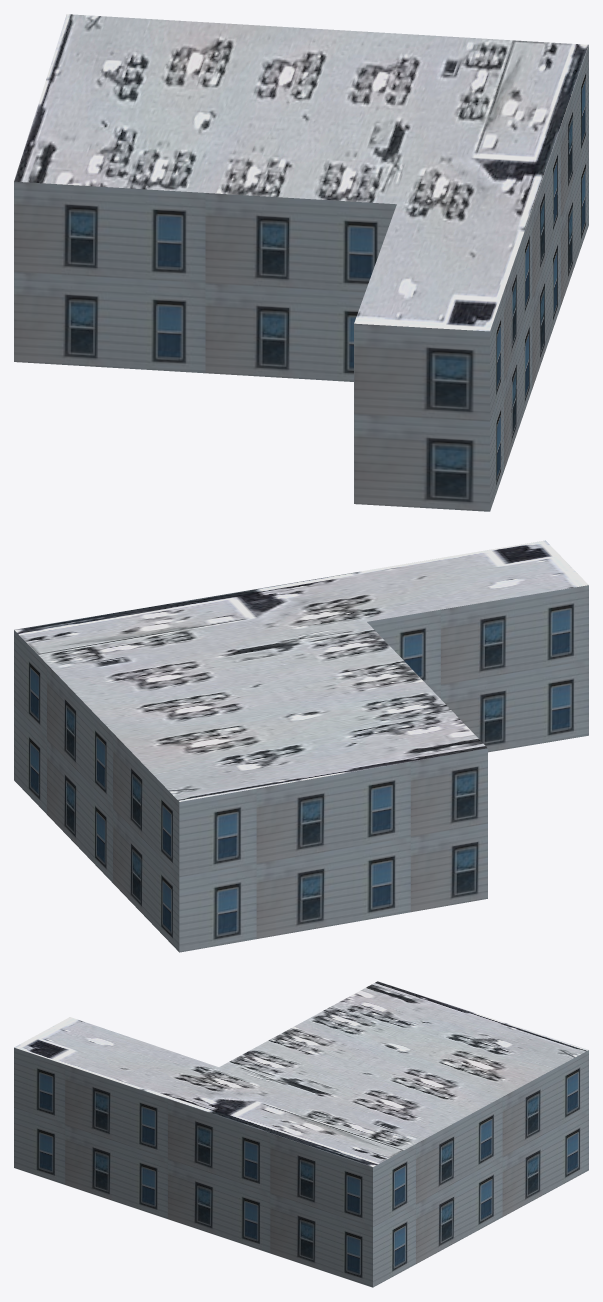
Rendered from ResTex__3966.fbx.
3 renders of one model, top to bottom at view 1: azimuth 30°, elevation 25°; view 2: azimuth 150°, elevation 25°; view 3: azimuth 270°, elevation 25°, orthographic. The views are drawn at different scales.
Visible parts, largest first — view 1: CityEngineMaterial_18_m, CityEngineMaterial_m; view 2: CityEngineMaterial_18_m, CityEngineMaterial_m; view 3: CityEngineMaterial_18_m, CityEngineMaterial_m.
Boxes of the visible parts, x1,y1,x2,y2 form: CityEngineMaterial_18_m: [14, 45, 588, 511]; CityEngineMaterial_m: [14, 14, 588, 331]; CityEngineMaterial_18_m: [14, 585, 588, 952]; CityEngineMaterial_m: [14, 540, 588, 801]; CityEngineMaterial_18_m: [14, 1047, 588, 1287]; CityEngineMaterial_m: [14, 981, 588, 1167].
Size of the model in its own units: 19.89 by 6 by 25.98.
Materials: 2 (2 with a texture image).
